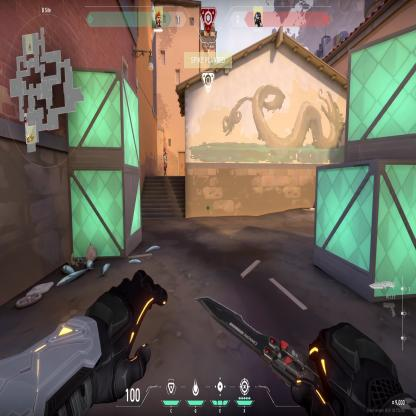enemy: (162, 147, 167, 177)
